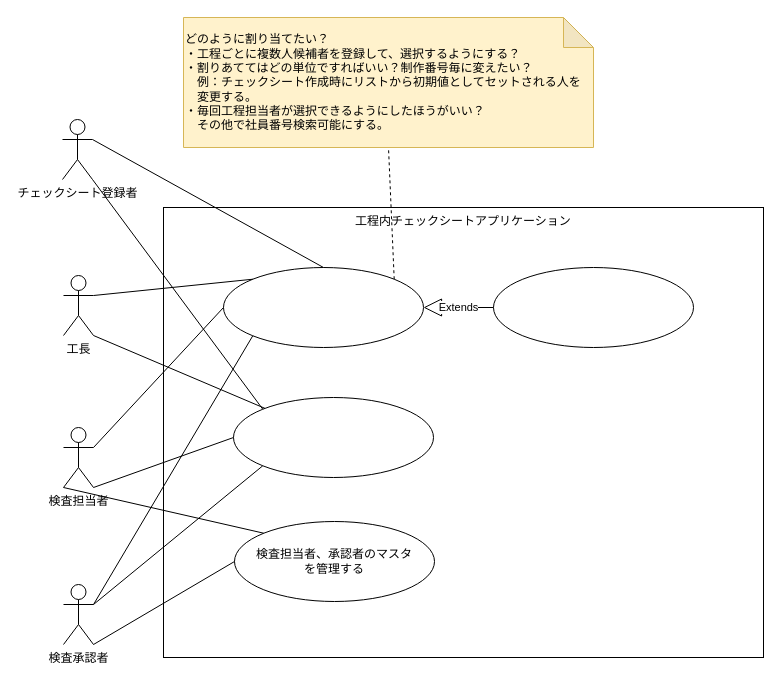
Image size: 781x683. Some labels were removed from this diagram. Each missing label, with the centre of its shape:
"工程に対して複数人割り当てる" belongs at pixel 593 307.
"工程担当者のマスタを管理する" belongs at pixel 323 307.
"工程確認者のマスタを管理する" belongs at pixel 333 437.
